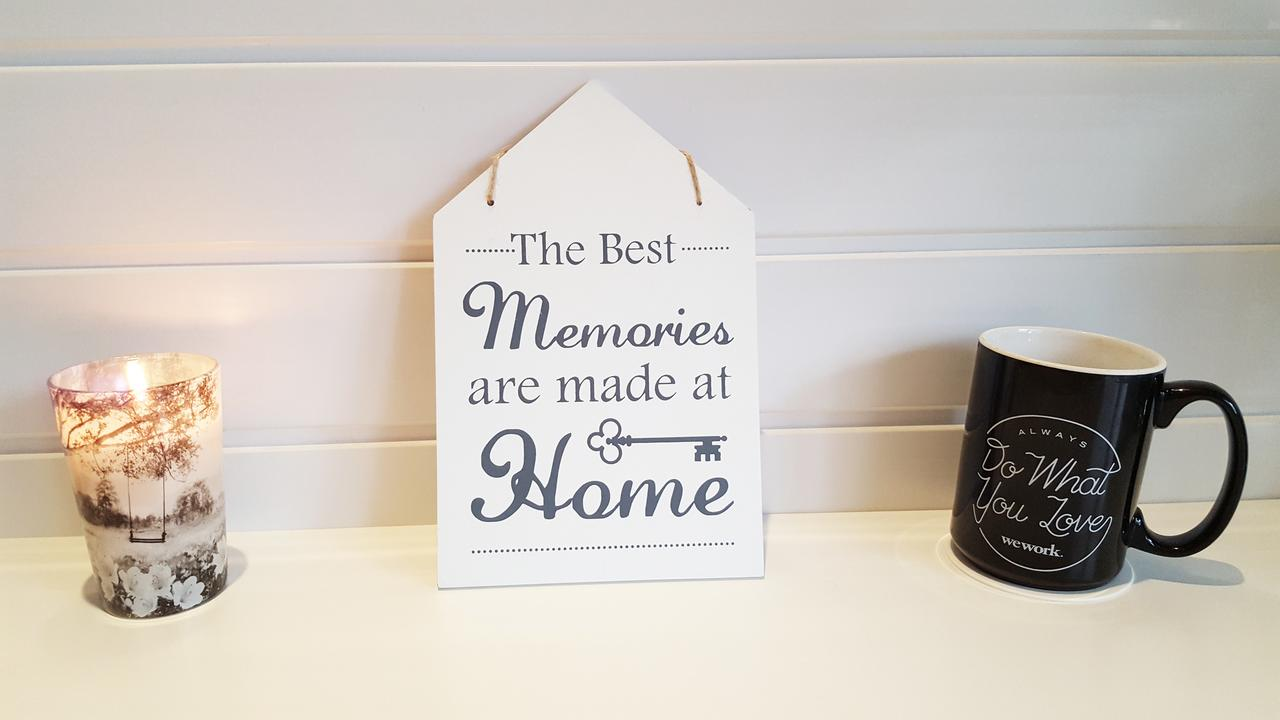wework: (999, 534, 1062, 560)
